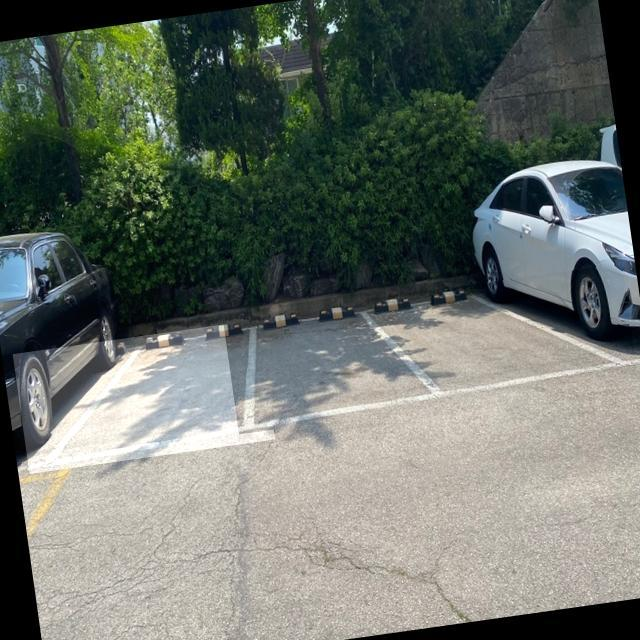empty: (30, 320, 258, 474), (350, 285, 637, 402), (240, 299, 448, 434)
